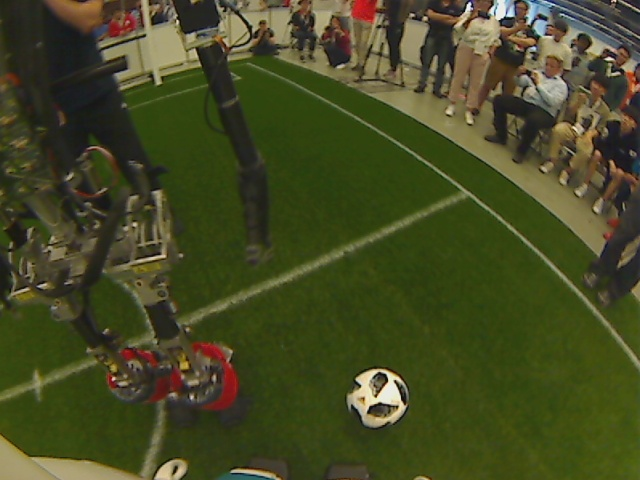ball: (345, 366, 410, 431)
